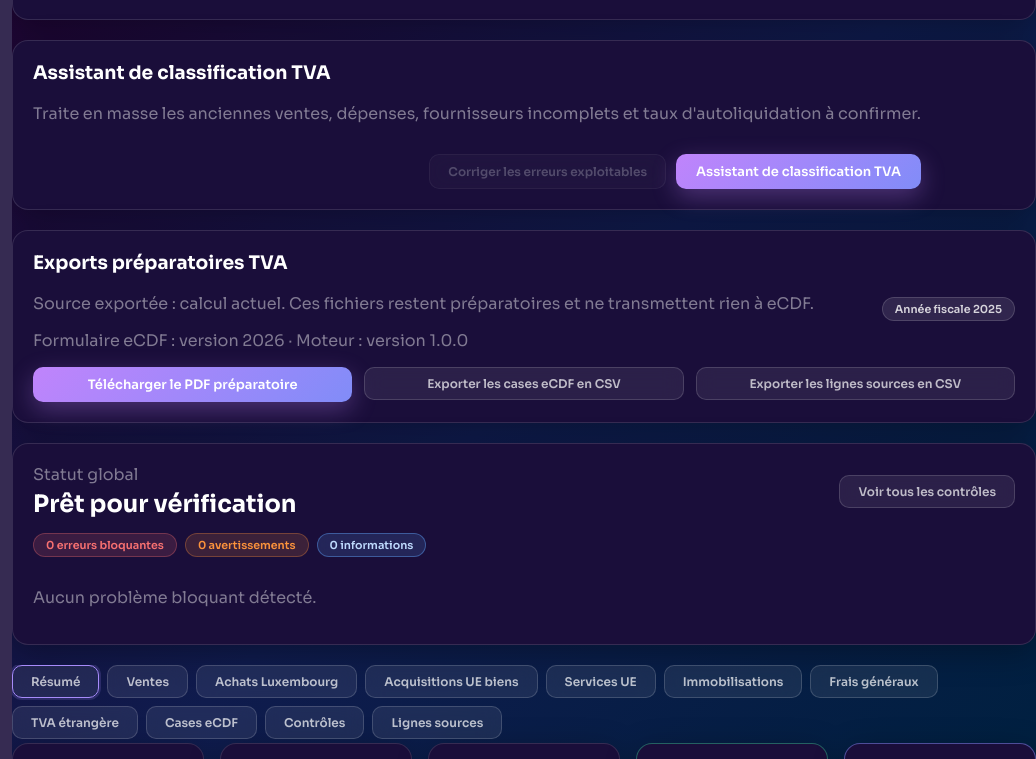
it: VatDeclaration › clic PDF et CSV exporte le calcul actuel
This screenshot has width=1036, height=759.
(page scrolled)
Click the button "Télécharger le PDF préparatoire" at (193, 384), box [33,367,352,402]
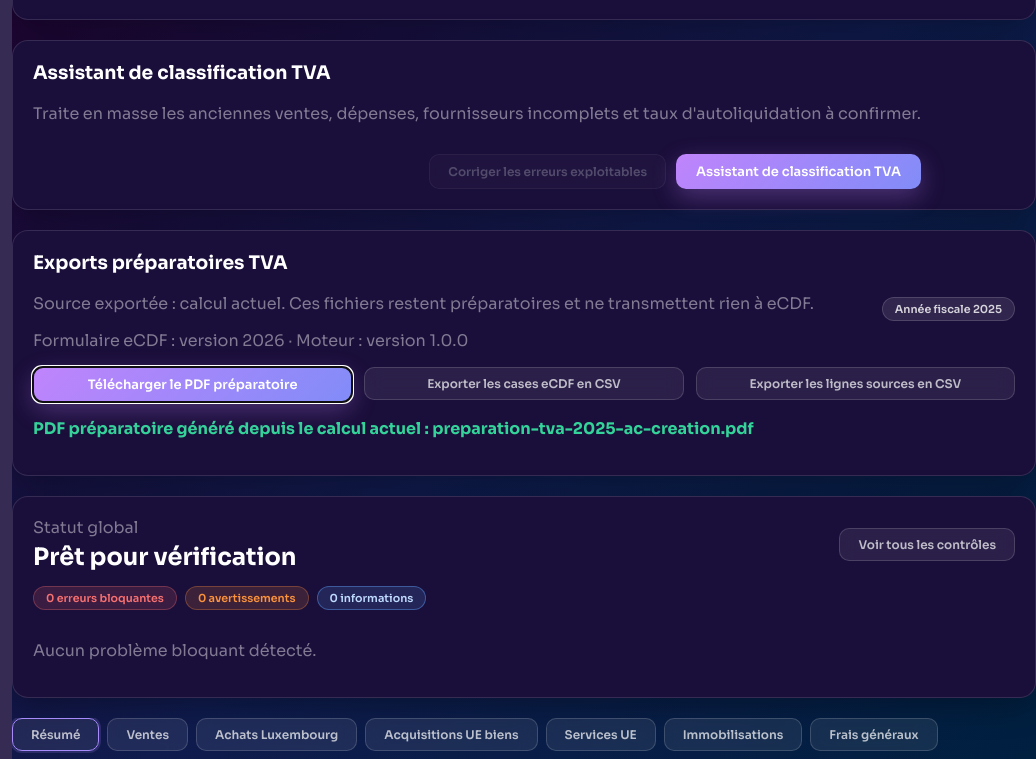
Click the button "Exporter les cases eCDF en CSV" at (524, 383), box [364,367,684,400]
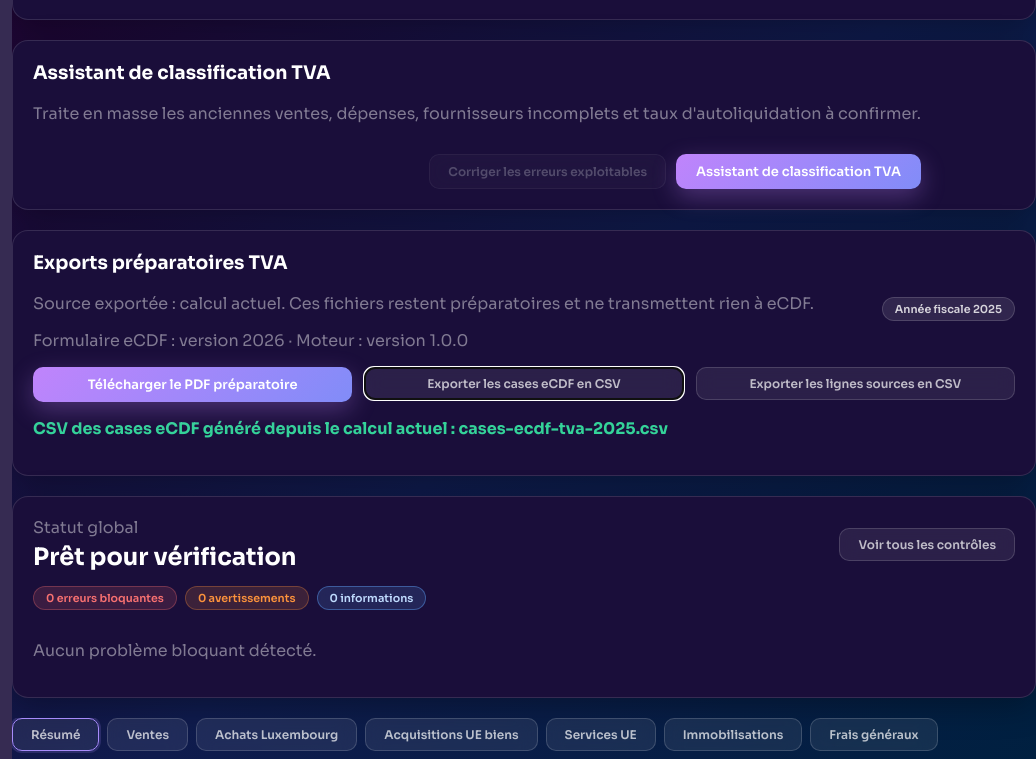
Click the button "Exporter les lignes sources en CSV" at (855, 383), box [696,367,1015,400]
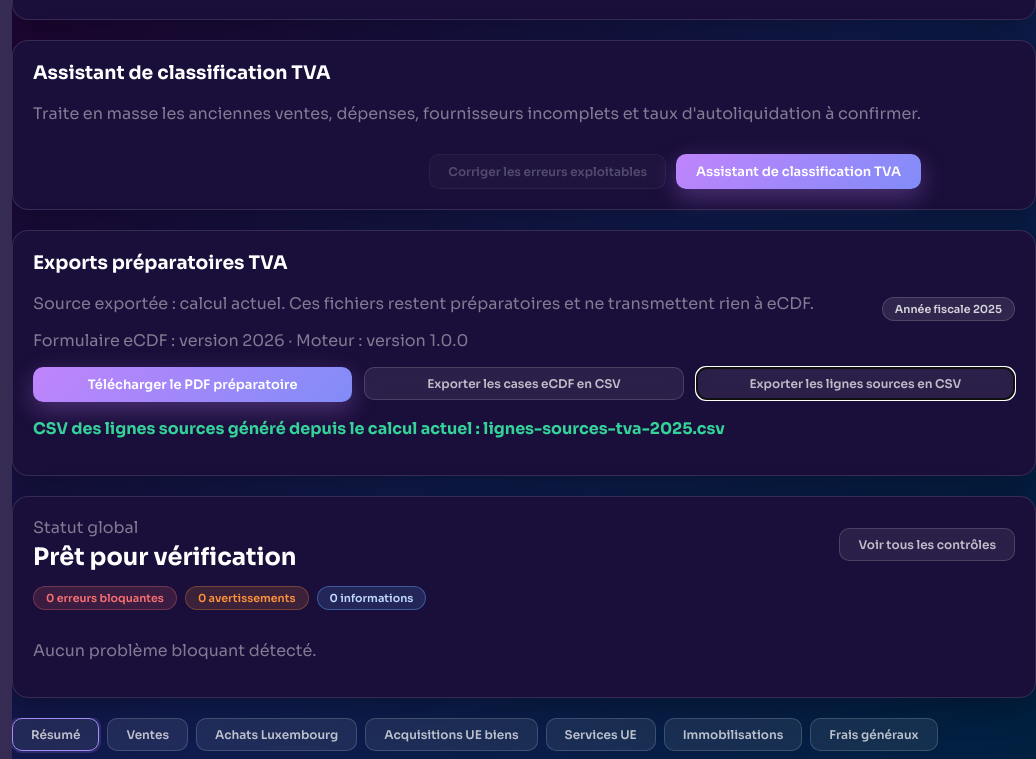
Expected: the text "CSV des lignes sources généré depuis le calcul actuel" is shown, [33,418,725,439]
